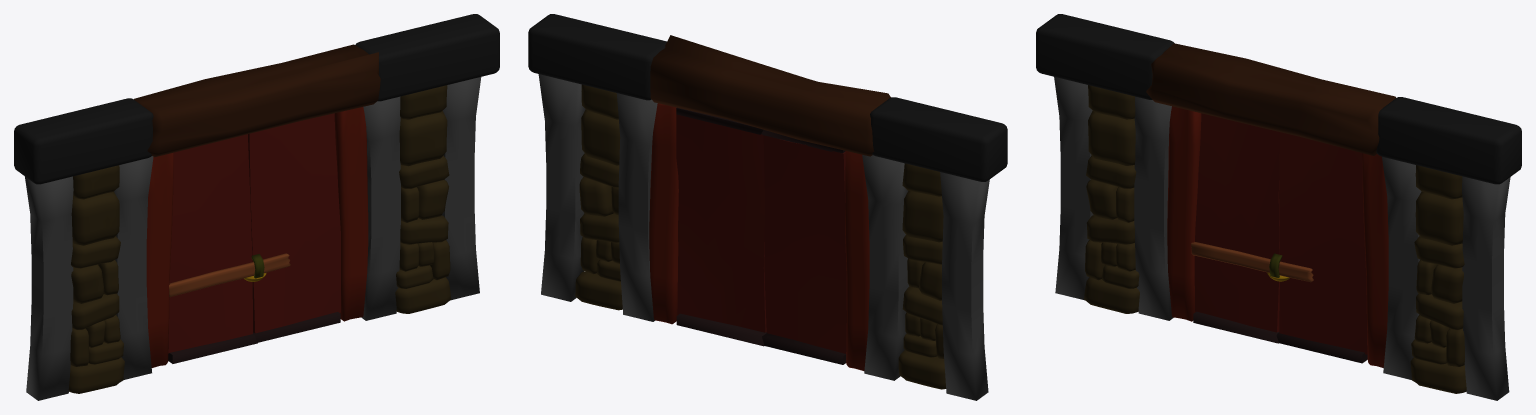
File: GatesZ.FBX
The picture shows the model from 3 angles, left to right: view 1: azimuth 30°, elevation 25°; view 2: azimuth 150°, elevation 25°; view 3: azimuth 330°, elevation 25°; orthographic projection.
Visible parts, largest first — view 1: Tablon_Marco; view 2: Tablon_Marco; view 3: Tablon_Marco.
Part boxes in pixels (x1,y1,x2,y2): Tablon_Marco: [14, 14, 499, 400]; Tablon_Marco: [528, 14, 1007, 400]; Tablon_Marco: [1036, 14, 1521, 400].
Bounding box in the file's own units: 26.28 × 14.86 × 3.04.
